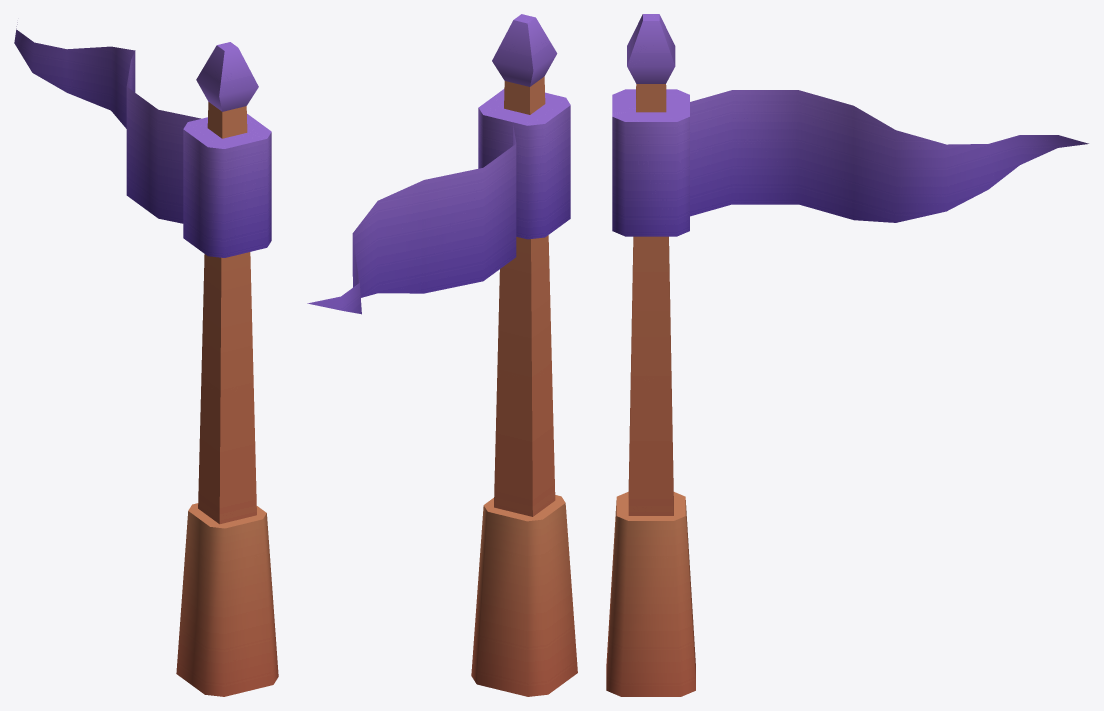
File: flag-pennant.glb
3 views of the same model, side by side, from view 1: azimuth 30°, elevation 25°; view 2: azimuth 150°, elevation 25°; view 3: azimuth 270°, elevation 25° (orthographic). The views are drawn at different scales.
Visible parts, largest first — view 1: flag-pennant; view 2: flag-pennant; view 3: flag-pennant.
Boxes of the visible parts, <box> form: flag-pennant: <box>14,22,278,696</box>; flag-pennant: <box>307,14,577,696</box>; flag-pennant: <box>606,14,1088,696</box>.
Size of the model in its own units: 0.1064 by 0.8656 by 0.5739.
